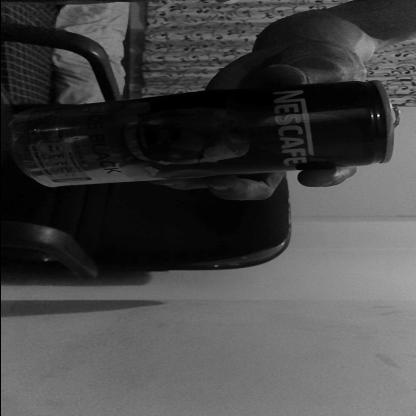alumunium_can: (7, 80, 397, 188)
